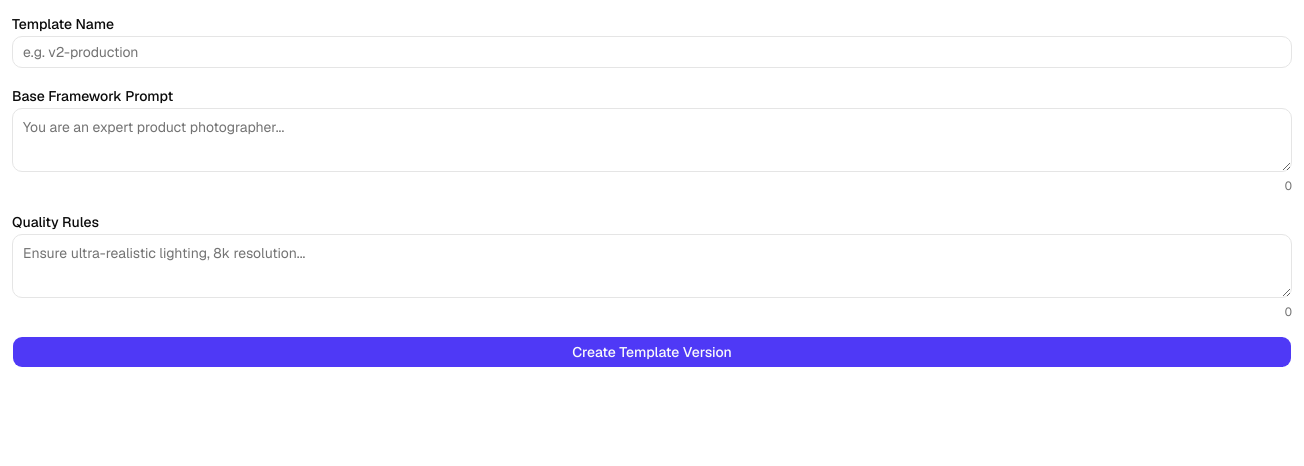
Scenario: PromptTemplateForm › shows validation errors for empty required fields
Click the button "Create Template Version" at [652, 352], box x1=12 y1=336 x2=1292 y2=368
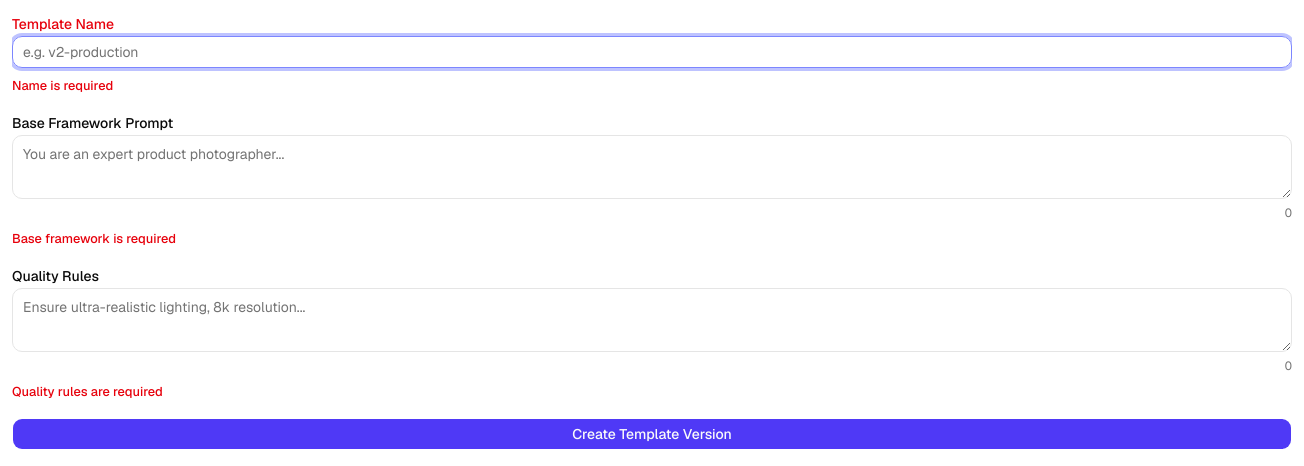
Expected: the text "Name is required" is shown, x1=12 y1=77 x2=113 y2=94
Expected: the text "Base framework is required" is shown, x1=12 y1=230 x2=176 y2=247
Expected: the text "Quality rules are required" is shown, x1=12 y1=383 x2=163 y2=400
